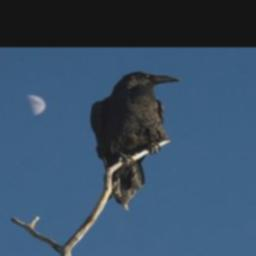Crow: (89, 71, 182, 213)
